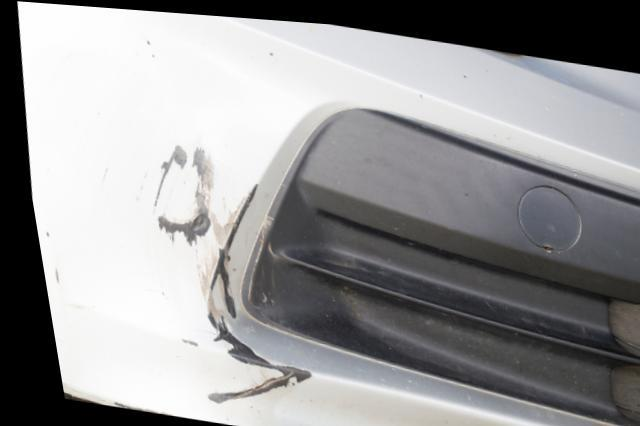scratch: (143, 138, 304, 403), (97, 399, 189, 419)
